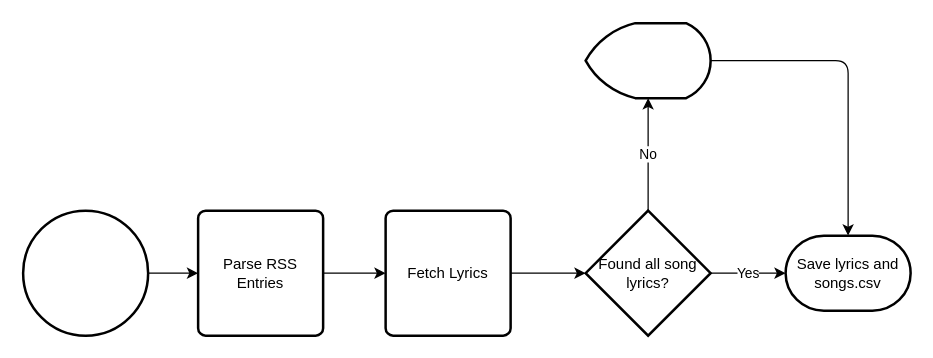
Image size: 933x358. Some labels were removed from this diagram. The shapes that lost their labels are listed below. From the top down, each one's box as (x1, y1, x2, y2) in pixels, then its label:
(584, 21, 711, 99): Error
(21, 209, 149, 336): Fetch billboard.com RSS Feed
